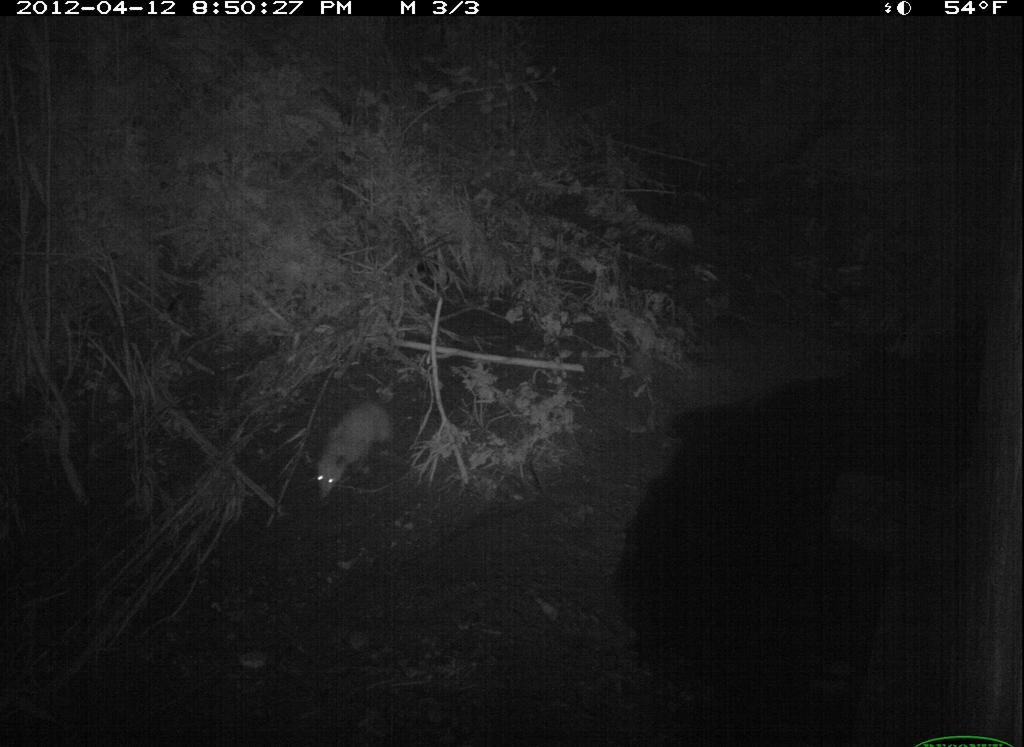opossum: (303, 391, 414, 506)
